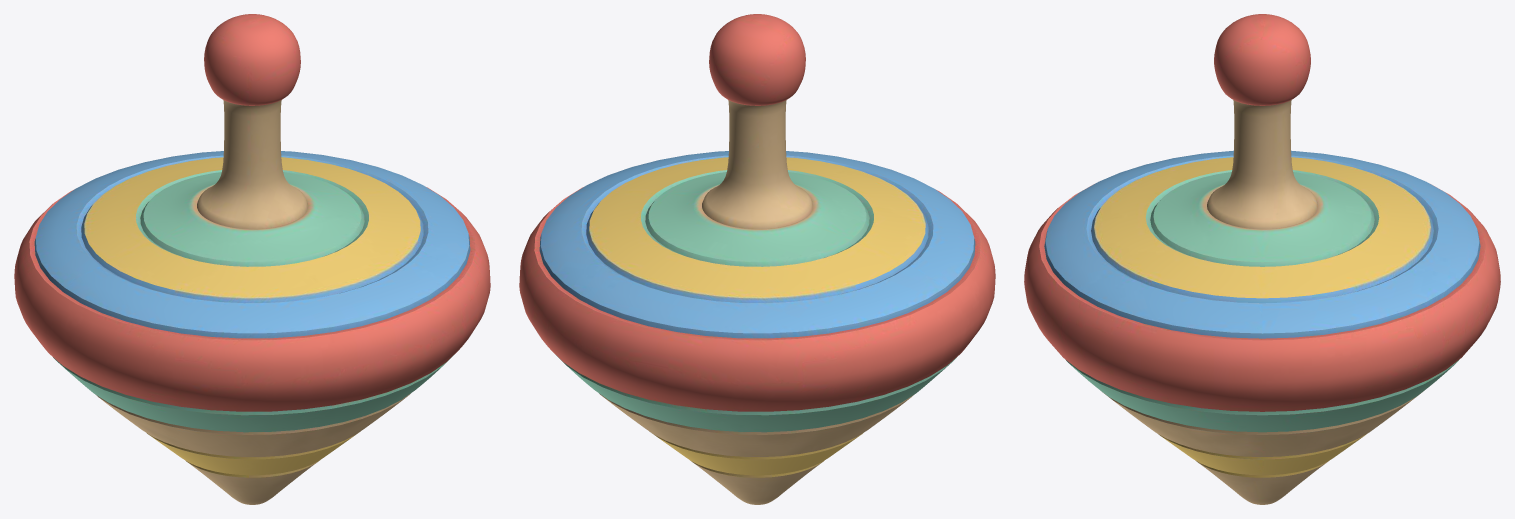
The model's file is peonza.glb.
3 renders of one model, left to right at view 1: azimuth 30°, elevation 25°; view 2: azimuth 150°, elevation 25°; view 3: azimuth 270°, elevation 25°, orthographic.
Parts seen in each view (by area): view 1: spinning-top_body; view 2: spinning-top_body; view 3: spinning-top_body.
Part boxes in pixels (x1,y1,x2,y2): spinning-top_body: (14,14,490,504); spinning-top_body: (519,14,995,504); spinning-top_body: (1024,14,1500,504).
Size of the model in its own units: 0.0845 by 0.094 by 0.0845.
1 material, 1 textured.
